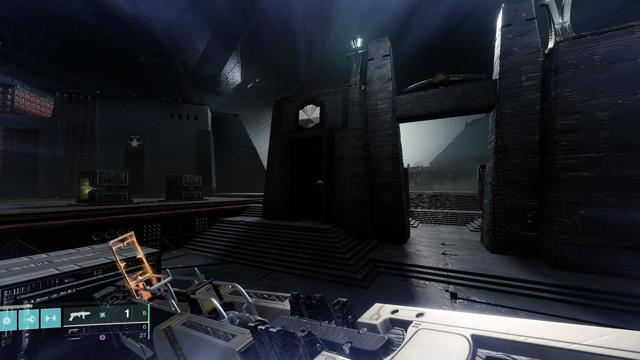commune: (299, 105, 321, 128)
drink: (126, 135, 143, 146)
